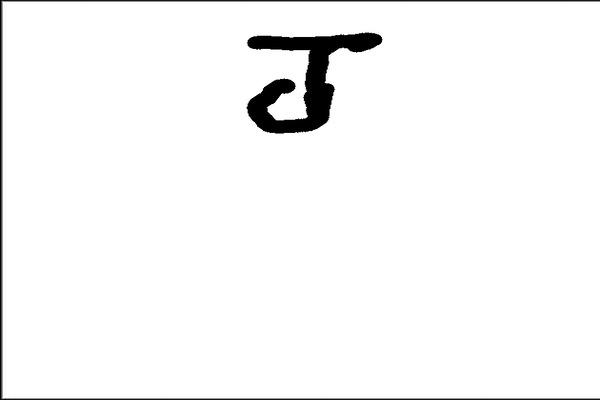J: (235, 25, 388, 141)
